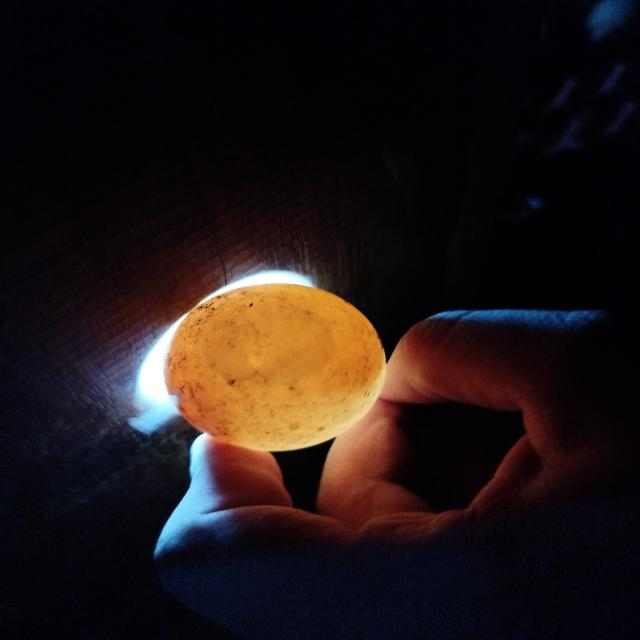Camara de Ar: (207, 303, 336, 386)
